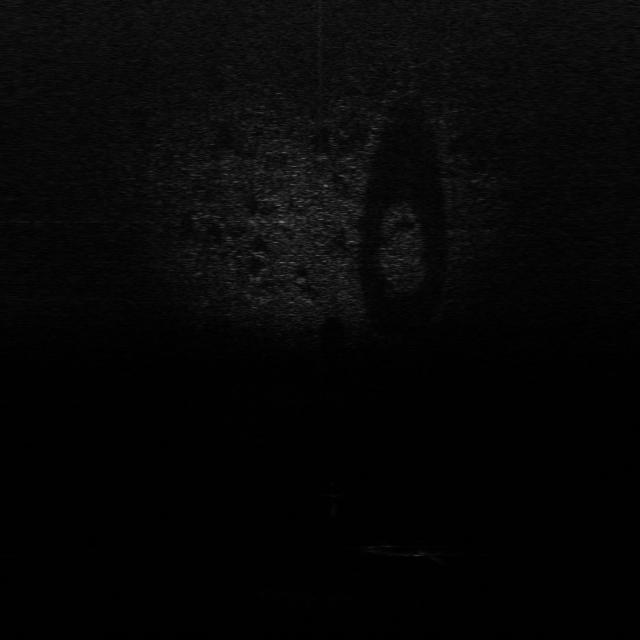ball: (322, 482, 349, 499)
tyre: (356, 535, 446, 562)
